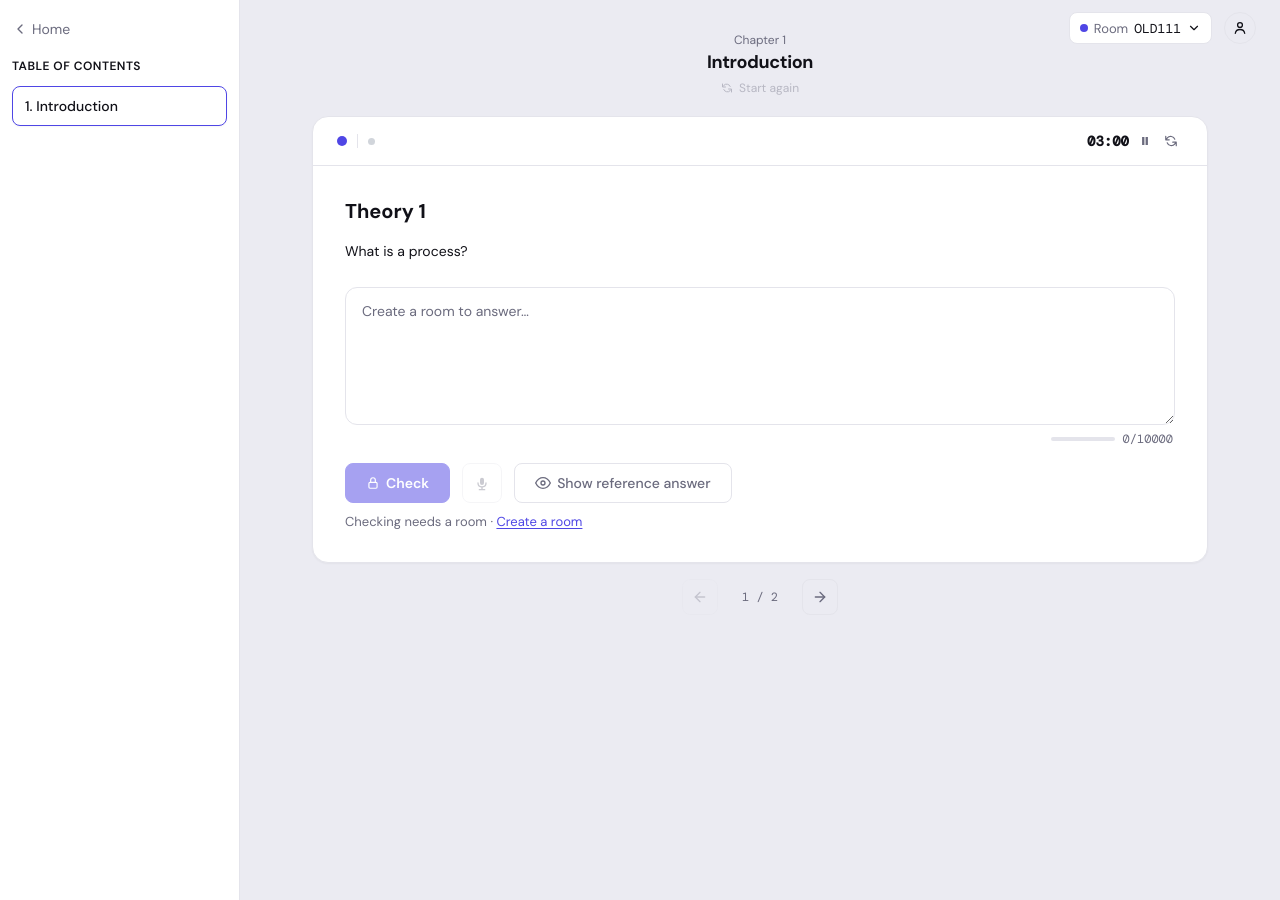
Test: App routing › puts the remembered room in sidebar links from a roomless chapter page
expect the text "What is a process?" is shown: met, box [345, 242, 468, 260]
expect the button "Create a room" is shown: met, box [496, 513, 582, 530]
Click the button "1. Introduction" at (120, 106), box [12, 86, 227, 126]
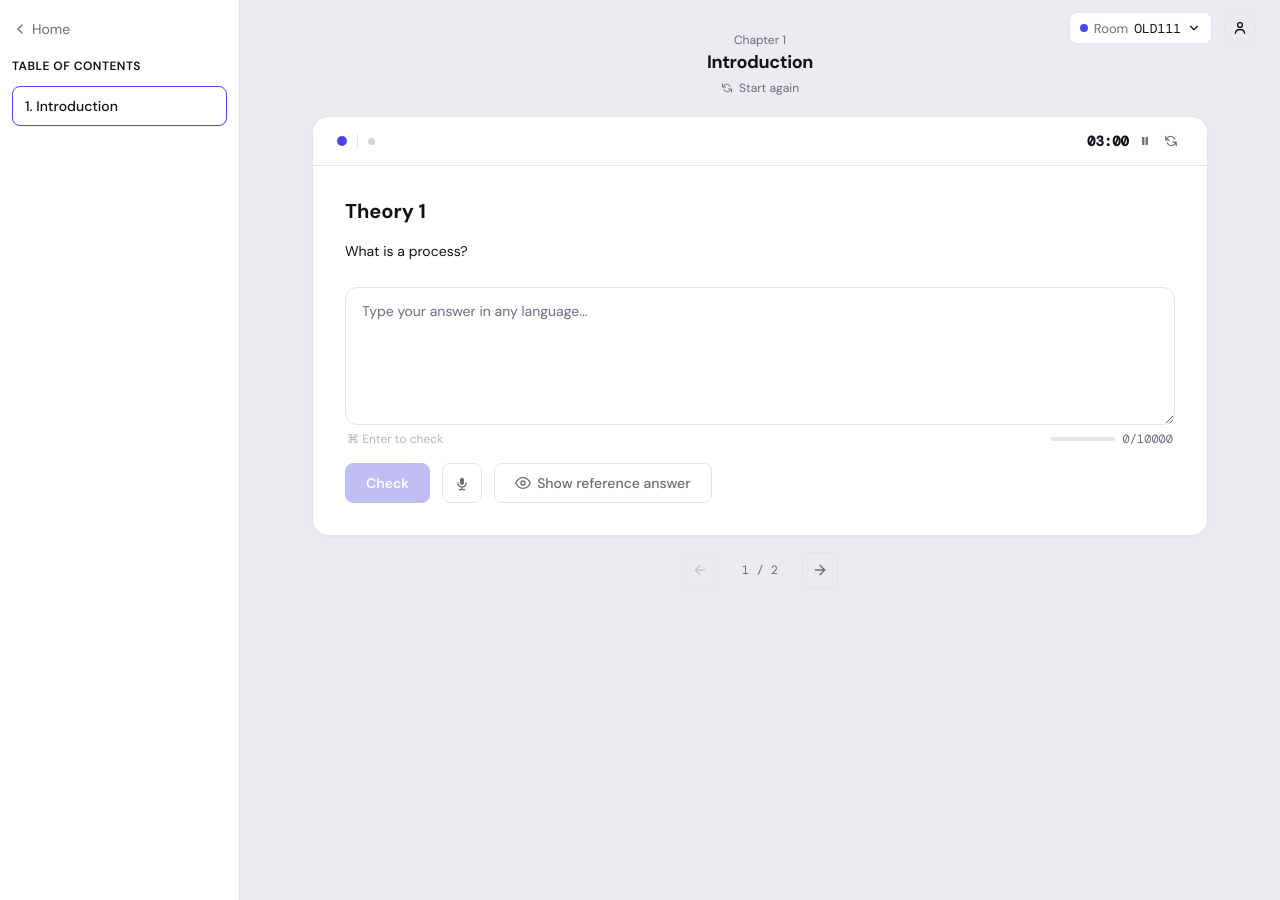
expect the button "Room OLD111" is shown: met, box [1069, 12, 1212, 44]
expect the text box with placeholder "Type your answer in any language..." is enabled: met, box [345, 287, 1175, 425]
